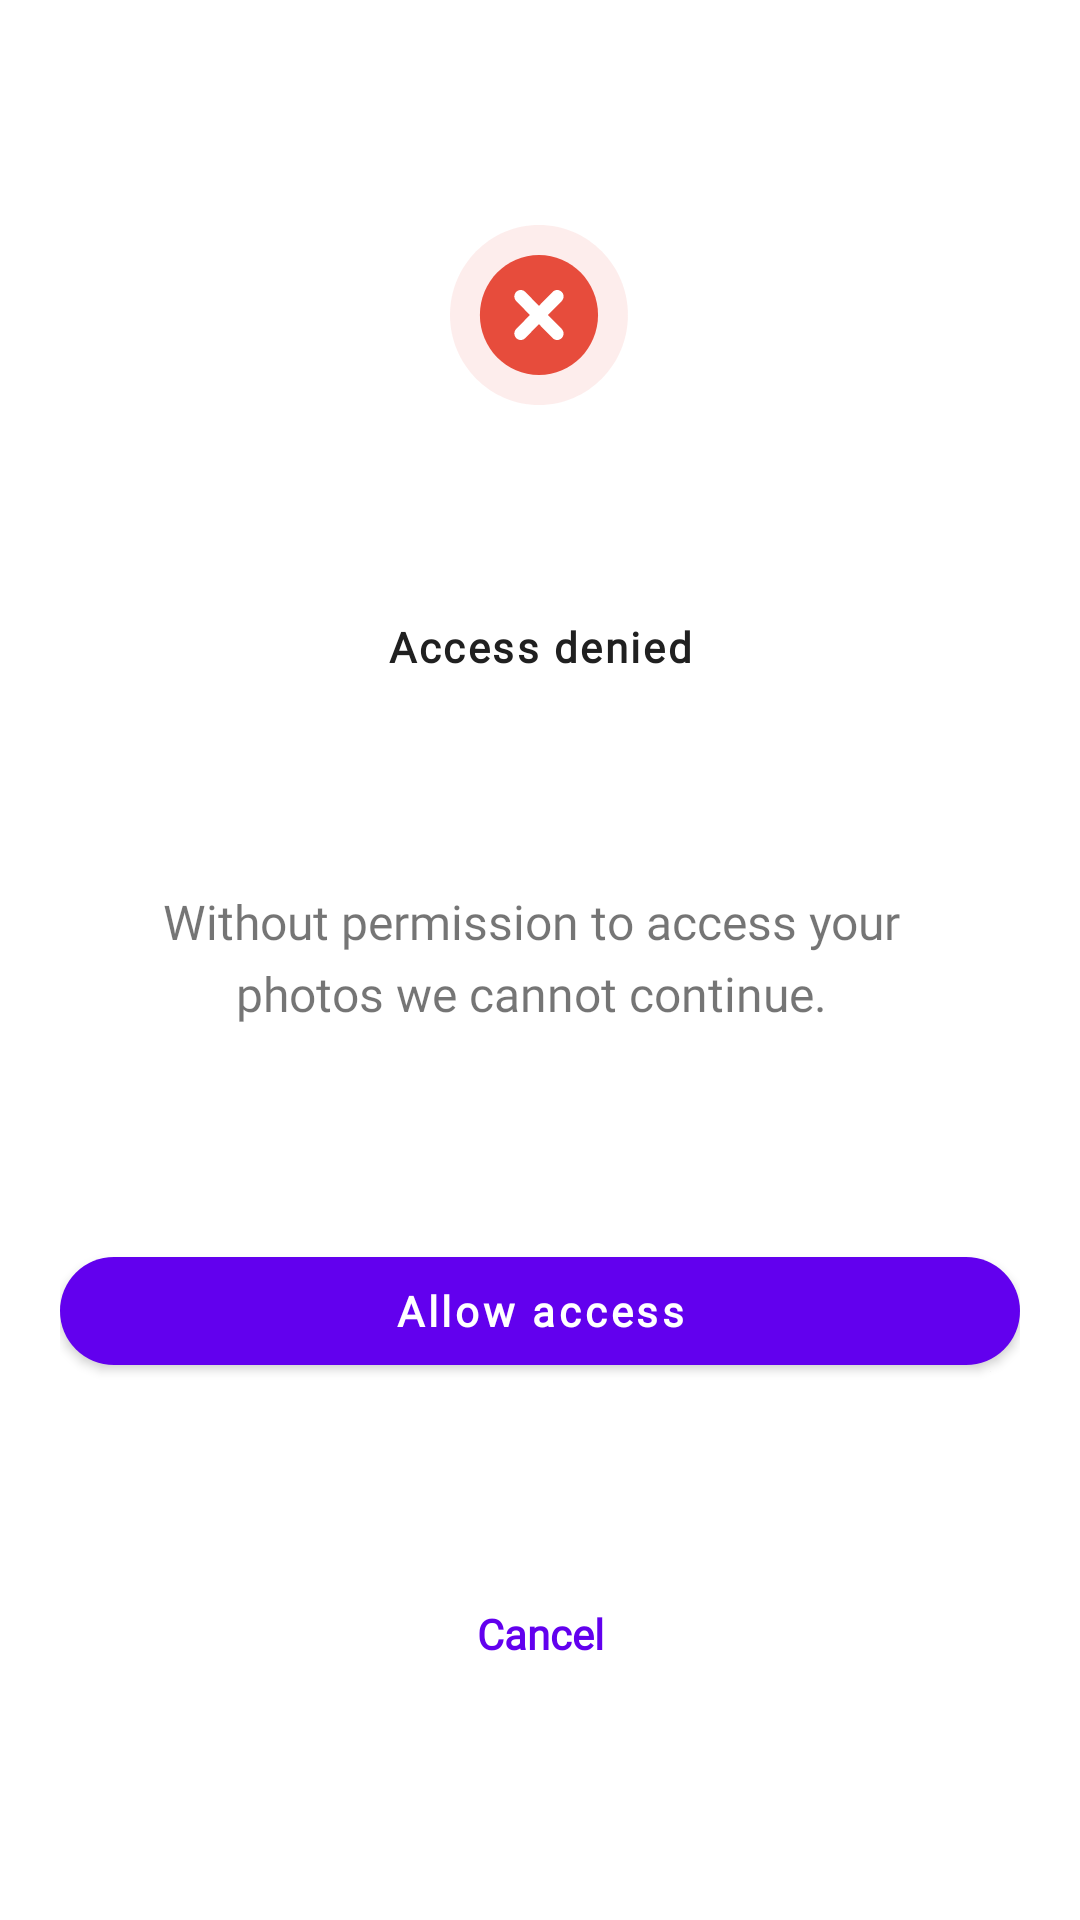

Named icons in this screenshot (1080px×1920px) and their bounding boxes, bbox=(x1, y1, x2, y2):
failure: bbox=(479, 255, 599, 375)
